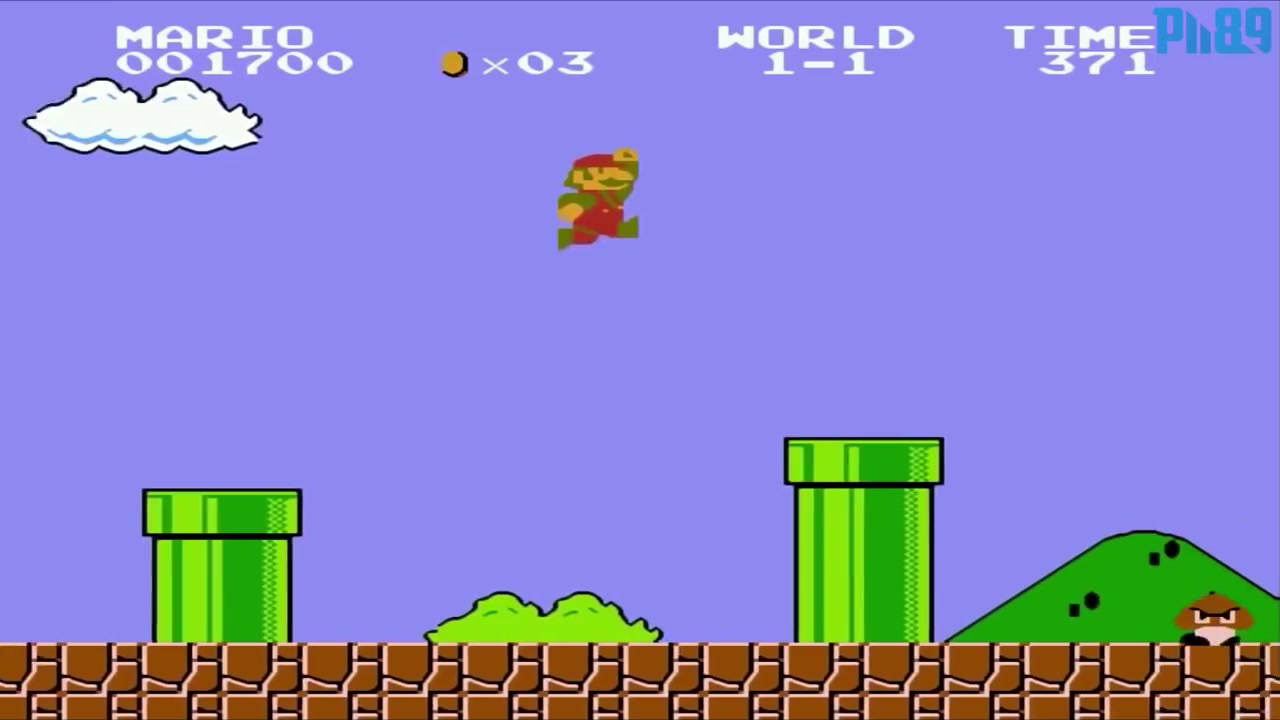mario: (544, 140, 644, 260)
